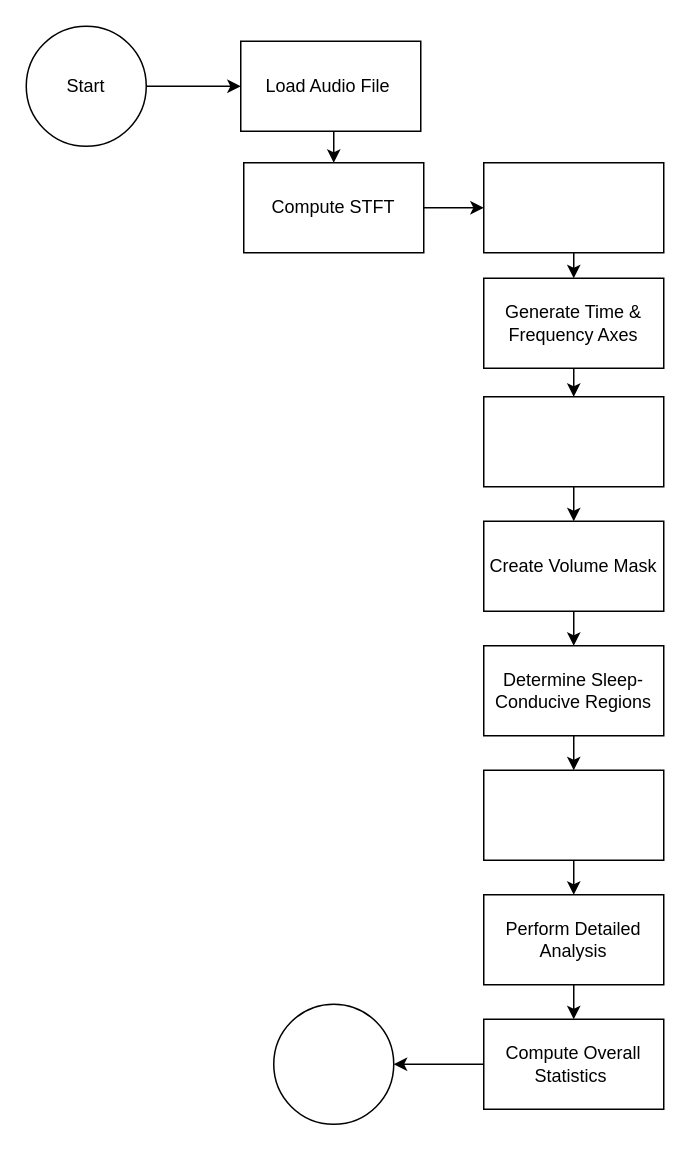
Image size: 690x1151. Some labels were removed from this diagram. Each missing label, with the box of its shape:
Compute MFCC: (482, 161, 664, 253)
Create Frequency Mask: (482, 395, 664, 487)
End: (272, 1003, 394, 1124)
Plot Spectogram & MFCCs: (482, 769, 664, 860)
